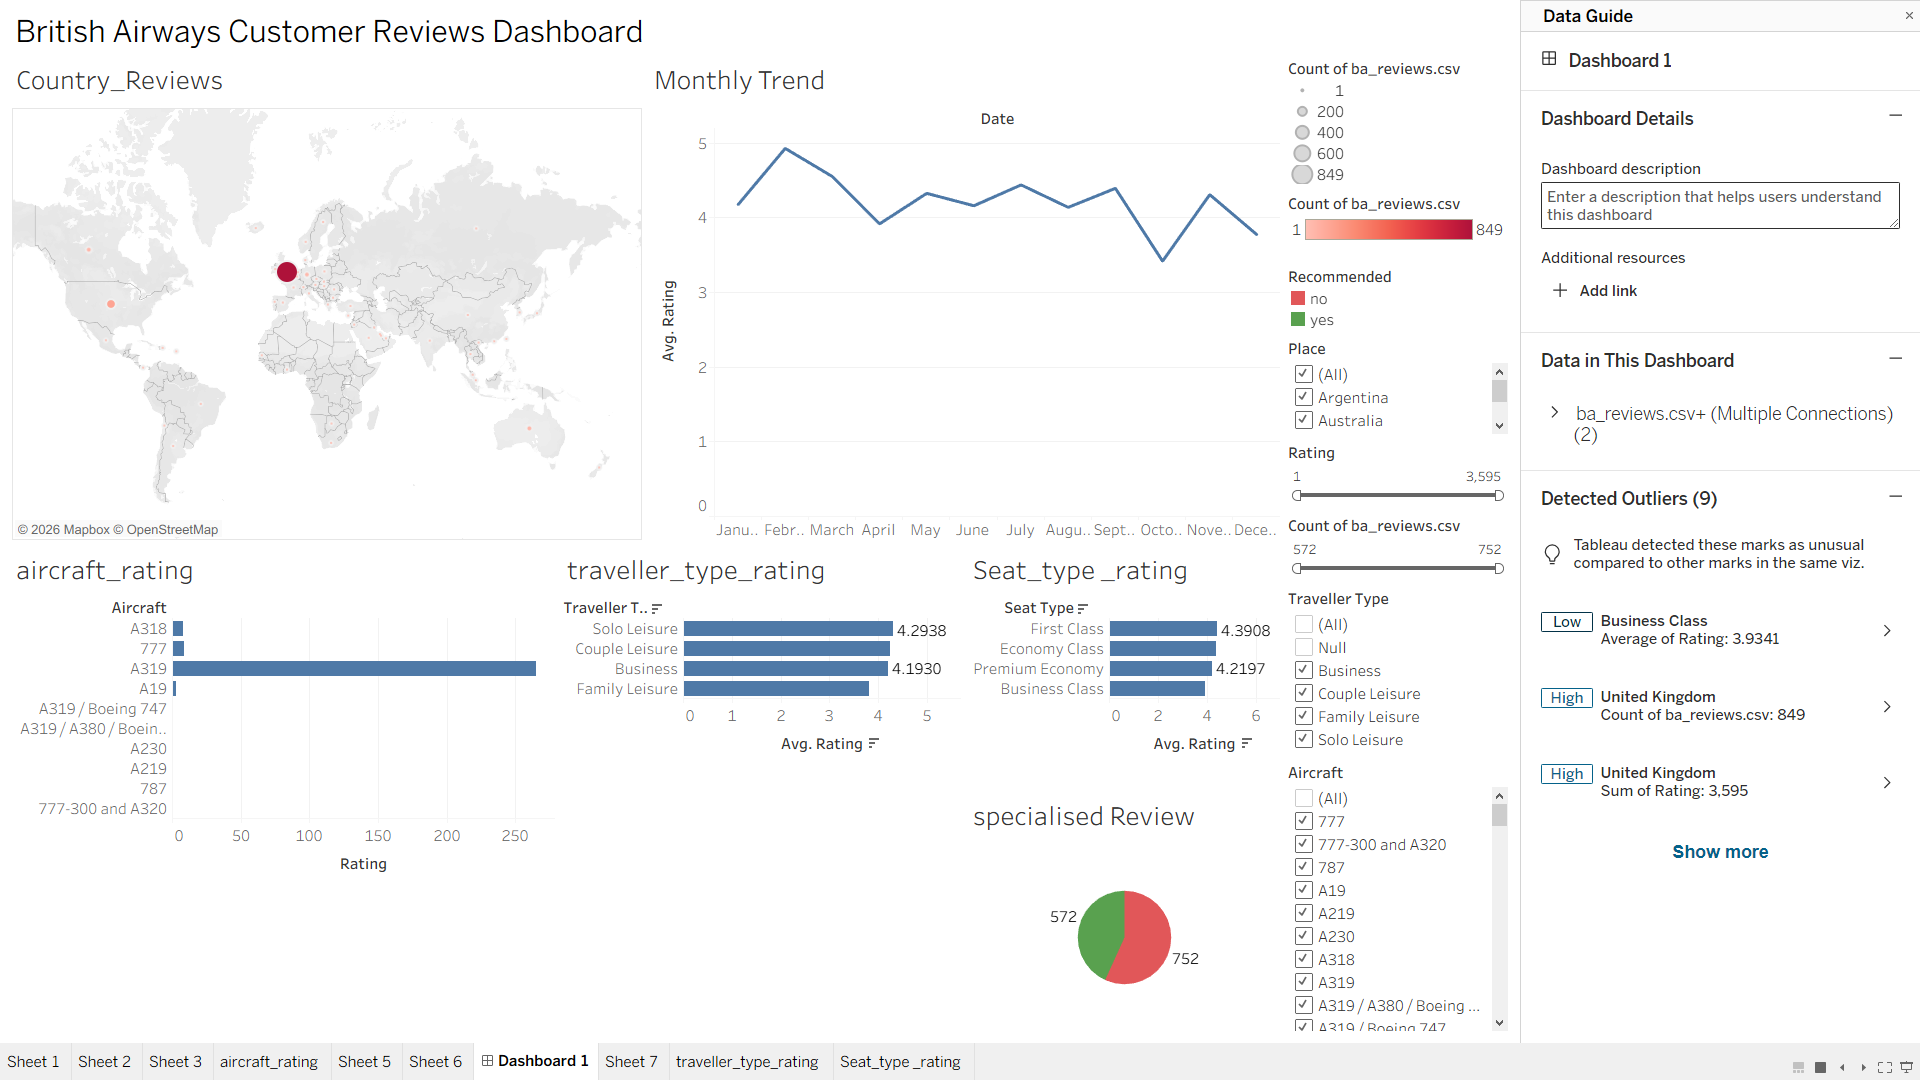

The dashboard page shown, as its layout file describes it:
{"tool":"tableau","page":{"name":"Dashboard 1","canvas":[1000,1000],"units":"permille","ordinal":0},"visuals":[{"type":"title","box":[6.4,9.3,987.3,53.4]},{"type":"worksheet","title":"Sheet 2","mark":"Automatic","box":[6.4,62.7,402.9,464]},{"type":"worksheet","title":"Sheet 3","mark":"Automatic","rows":["rating"],"cols":["date"],"box":[409.3,62.7,403,464]},{"type":"legend","title":"Sheet 2","param":"[federated.1be7hdv0ngu5im18qay1v1e32vj3].[__tableau_internal_object_id__].[cnt:b","box":[812.3,62.7,181.4,156.4]},{"type":"legend","title":"Sheet 2","param":"[federated.1be7hdv0ngu5im18qay1v1e32vj3].[__tableau_internal_object_id__].[cnt:b","box":[812.3,219.1,181.4,84.8]},{"type":"legend","title":"Sheet 7","param":"[federated.1be7hdv0ngu5im18qay1v1e32vj3].[none:recommended:nk]","box":[812.3,303.9,181.4,83.6]},{"type":"filter","title":"Sheet 2","param":"[federated.1be7hdv0ngu5im18qay1v1e32vj3].[none:place:nk]","box":[812.3,387.5,181.4,120.8]},{"type":"filter","title":"Sheet 2","param":"[federated.1be7hdv0ngu5im18qay1v1e32vj3].[sum:rating:qk]","box":[812.3,508.3,181.4,84.8]},{"type":"worksheet","title":"aircraft_rating","mark":"Automatic","rows":["aircraft"],"cols":["rating"],"box":[6.4,526.7,348.1,464]},{"type":"worksheet","title":"traveller_type_rating","mark":"Automatic","rows":["traveller_type"],"cols":["rating"],"box":[354.5,526.7,256.3,464]},{"type":"worksheet","title":"Seat_type _rating","mark":"Automatic","rows":["seat_type"],"cols":["rating"],"box":[610.8,526.7,201.5,232]},{"type":"filter","title":"Sheet 7","param":"[federated.1be7hdv0ngu5im18qay1v1e32vj3].[__tableau_internal_object_id__].[cnt:b","box":[812.3,593.1,181.4,84.8]},{"type":"filter","title":"traveller_type_rating","param":"[federated.1be7hdv0ngu5im18qay1v1e32vj3].[none:traveller_type:nk]","box":[812.3,677.9,181.4,156.4]},{"type":"worksheet","title":"Sheet 7","mark":"Pie","box":[610.8,758.7,201.5,232]},{"type":"filter","title":"aircraft_rating","param":"[federated.1be7hdv0ngu5im18qay1v1e32vj3].[none:aircraft:nk]","box":[812.3,834.3,181.4,156.4]}]}

Visuals, with their boxes on the dashboard's canvas, which has no fixed pixel size, in thousandths of its width and height (x1, y1, x2, y2). These are canvas units, not pixel positions in the 1920x1080 screenshot, which may show the page scaled, cropped or inside an application window:
title: detection(6, 9, 994, 63)
"Sheet 2" worksheet: detection(6, 63, 409, 527)
"Sheet 3" worksheet: detection(409, 63, 812, 527)
"Sheet 2" legend: detection(812, 63, 994, 219)
"Sheet 2" legend: detection(812, 219, 994, 304)
"Sheet 7" legend: detection(812, 304, 994, 388)
"Sheet 2" filter: detection(812, 388, 994, 508)
"Sheet 2" filter: detection(812, 508, 994, 593)
"aircraft_rating" worksheet: detection(6, 527, 354, 991)
"traveller_type_rating" worksheet: detection(354, 527, 611, 991)
"Seat_type _rating" worksheet: detection(611, 527, 812, 759)
"Sheet 7" filter: detection(812, 593, 994, 678)
"traveller_type_rating" filter: detection(812, 678, 994, 834)
"Sheet 7" worksheet (Pie marks): detection(611, 759, 812, 991)
"aircraft_rating" filter: detection(812, 834, 994, 991)
